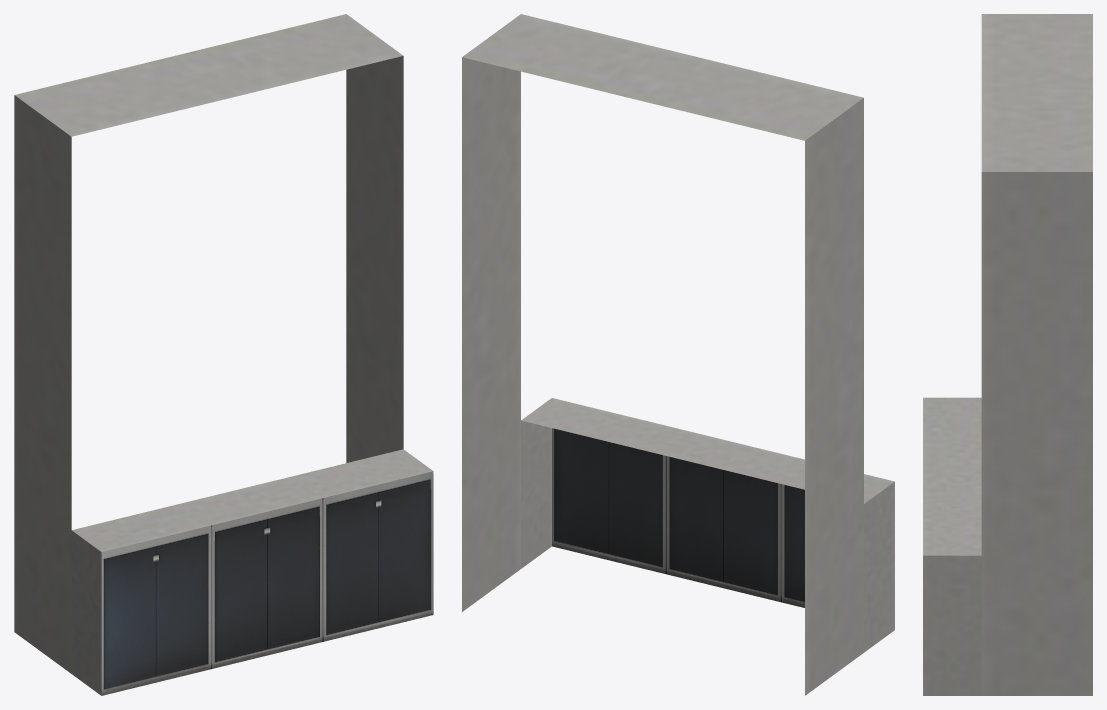
File: wifi_rental_shelf_6_m_shelf02_0_lev1.glb
3 views of the same model, side by side, from view 1: azimuth 30°, elevation 25°; view 2: azimuth 150°, elevation 25°; view 3: azimuth 270°, elevation 25° (orthographic). The views are drawn at different scales.
Parts seen in each view (by area): view 1: wifi_rental_shelf_6_m_shelf02_0_lev1; view 2: wifi_rental_shelf_6_m_shelf02_0_lev1; view 3: wifi_rental_shelf_6_m_shelf02_0_lev1.
Boxes of the visible parts, left/top/right/bottom form: wifi_rental_shelf_6_m_shelf02_0_lev1: left=14, top=14, right=433, bottom=695; wifi_rental_shelf_6_m_shelf02_0_lev1: left=462, top=14, right=894, bottom=695; wifi_rental_shelf_6_m_shelf02_0_lev1: left=923, top=14, right=1092, bottom=695.
Size of the model in its own units: 111 by 172 by 50.61.
Materials: 1 (1 with a texture image).
